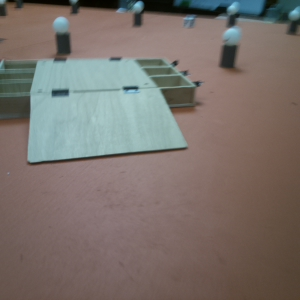blockF: (183, 16, 197, 28)
obstacle: (221, 28, 239, 69), (54, 17, 72, 55), (287, 7, 300, 37), (131, 1, 144, 28), (226, 4, 240, 28), (72, 1, 80, 15), (1, 1, 8, 16)
slope: (26, 91, 188, 164)
